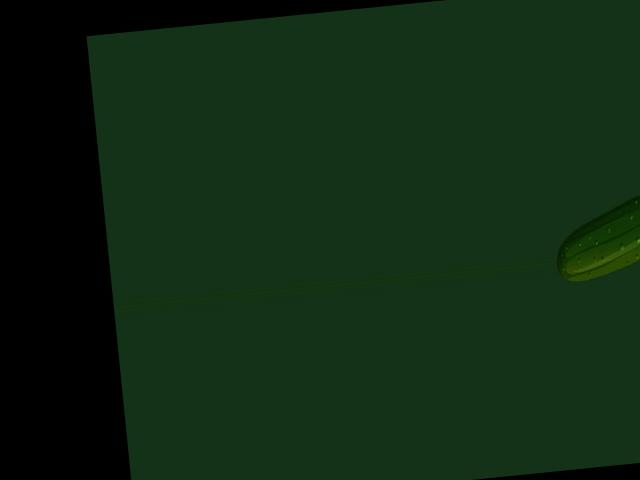cucumber: (551, 192, 640, 282)
